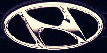Hyundai: (2, 1, 106, 53)
